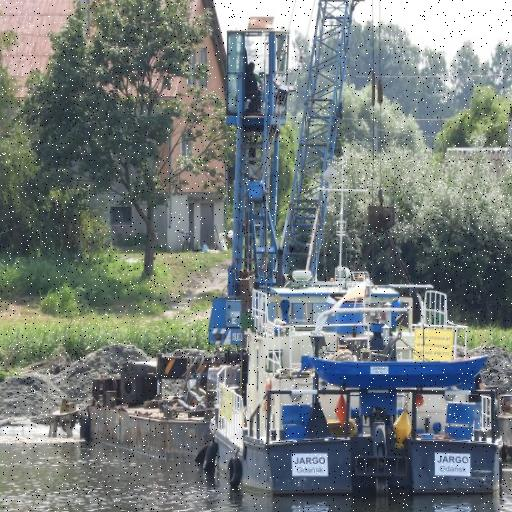tugboat: (199, 11, 512, 512)
